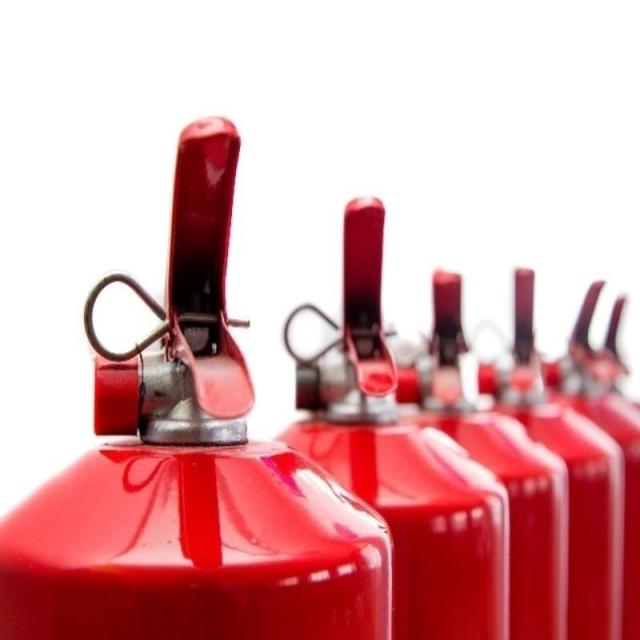fire_extinguisher: (0, 106, 402, 639), (220, 184, 517, 639), (334, 260, 576, 639), (440, 261, 630, 639), (503, 274, 639, 639)
